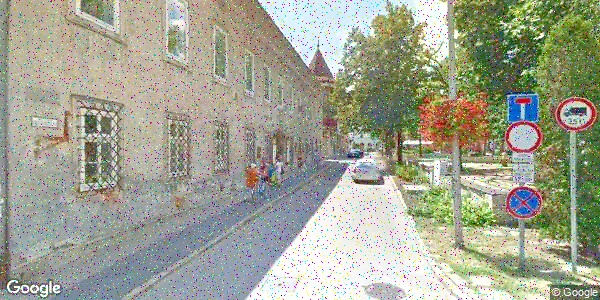c_road_closed: (504, 121, 544, 153)
e_no_stop_park: (504, 185, 543, 221)
f_others: (554, 96, 598, 132)
